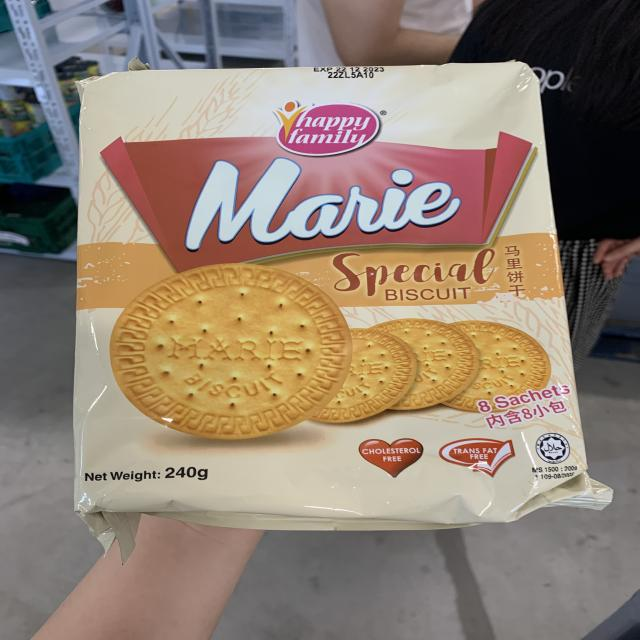object_name: (79, 78, 578, 512)
